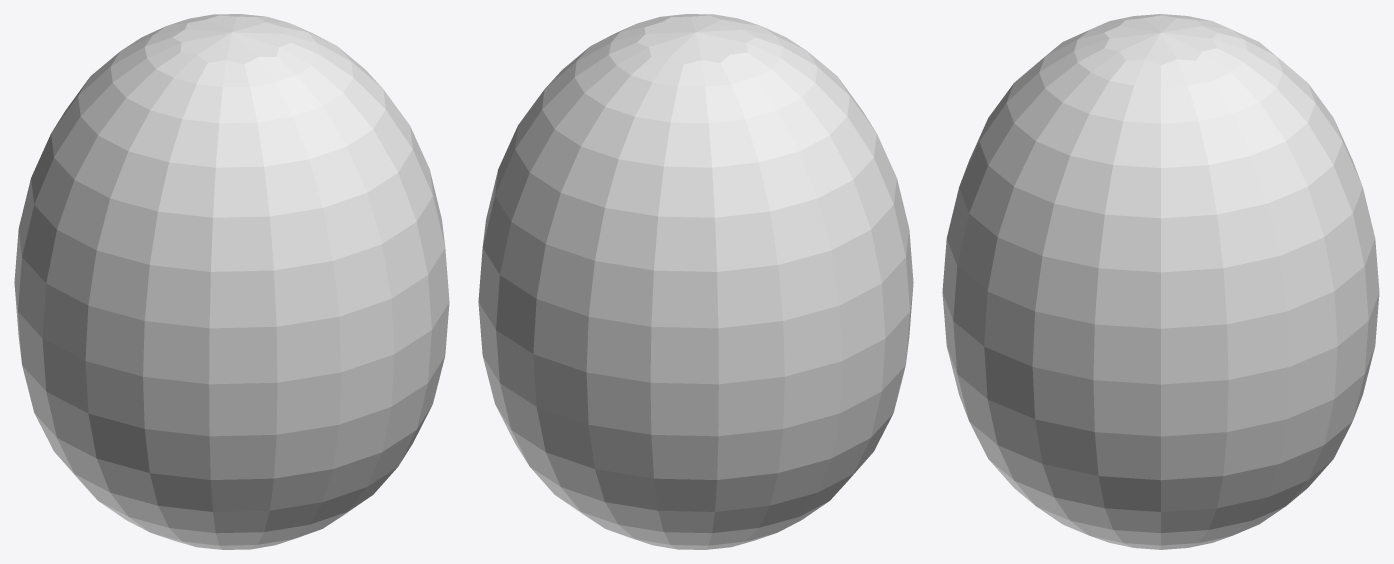
File: egg.fbx
3 views of the same model, side by side, from view 1: azimuth 30°, elevation 25°; view 2: azimuth 150°, elevation 25°; view 3: azimuth 270°, elevation 25° (orthographic).
Parts seen in each view (by area): view 1: Sphere; view 2: Sphere; view 3: Sphere.
Boxes of the visible parts, left/top/right/bottom form: Sphere: left=14, top=14, right=449, bottom=549; Sphere: left=478, top=14, right=913, bottom=549; Sphere: left=942, top=14, right=1379, bottom=549.
Size of the model in its own units: 182 by 229 by 183.
